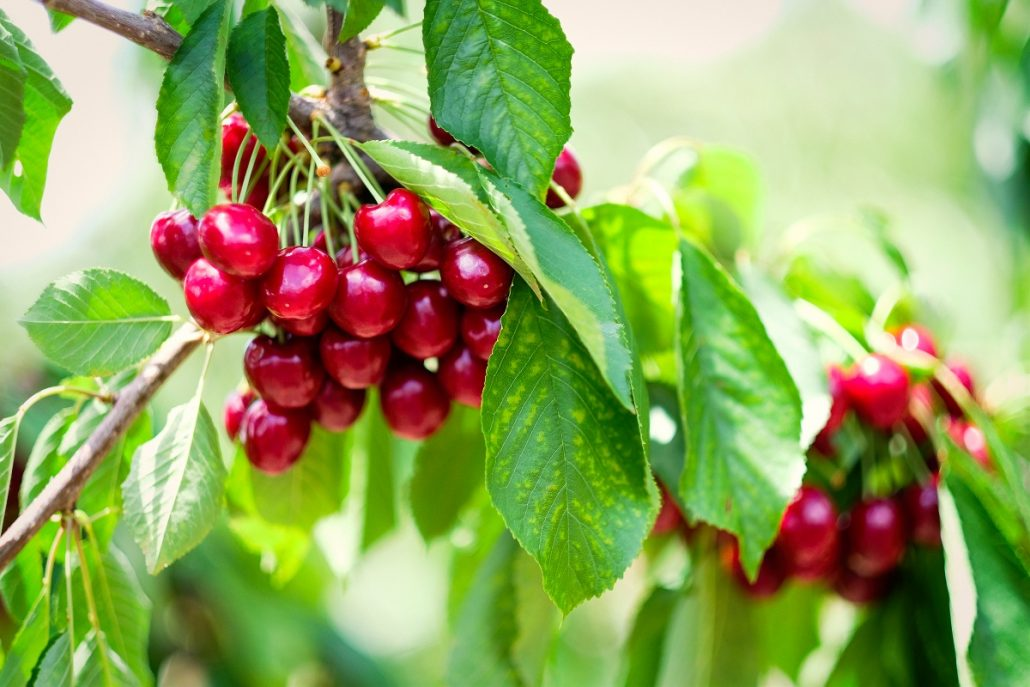Cherry: (180, 258, 269, 338), (194, 197, 280, 278), (352, 183, 430, 270), (370, 364, 454, 443), (332, 260, 410, 341), (234, 398, 312, 476), (259, 241, 339, 316), (770, 489, 840, 574), (440, 233, 514, 311), (253, 332, 324, 412), (845, 347, 914, 429), (848, 488, 908, 577), (392, 279, 458, 357), (532, 134, 592, 216), (319, 327, 397, 388), (213, 116, 278, 187), (148, 210, 206, 282), (306, 378, 372, 431), (434, 347, 489, 407), (466, 304, 512, 360), (215, 378, 256, 439), (412, 208, 465, 248), (264, 307, 332, 338)
